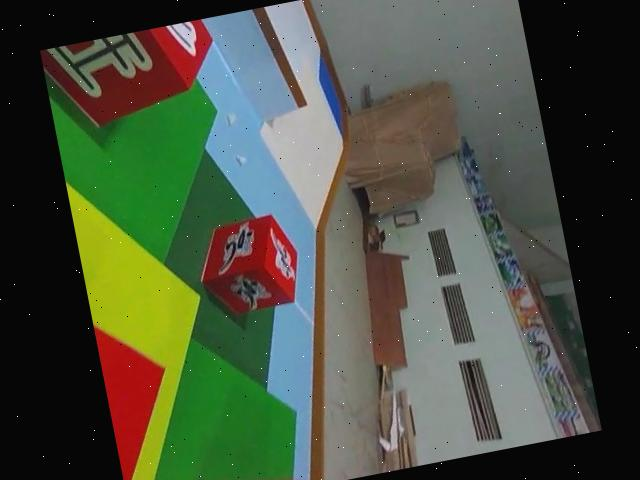R1: (189, 207, 309, 323)
R2 Fake: (39, 17, 229, 140)
R2 Real: (153, 457, 332, 480)
